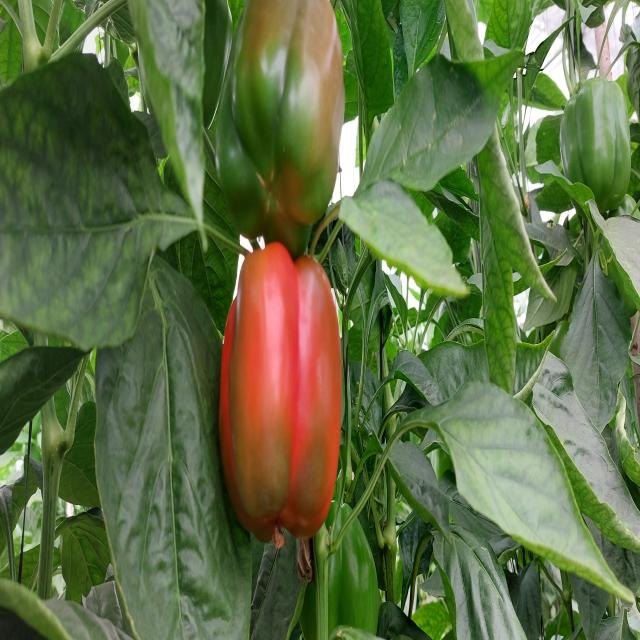BrownishRed--Can-be-Harvested: (222, 6, 342, 226)
Red-Ready-to-Harvest: (225, 250, 345, 530)
